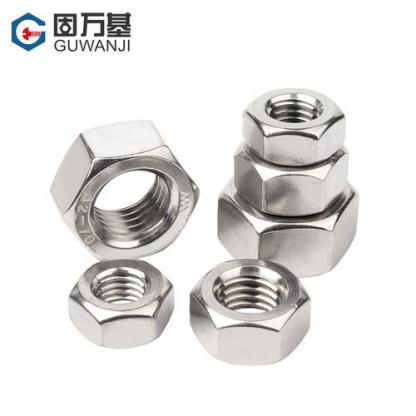FOD: (50, 117, 200, 262), (188, 256, 314, 369), (61, 254, 182, 351), (238, 86, 349, 166)
